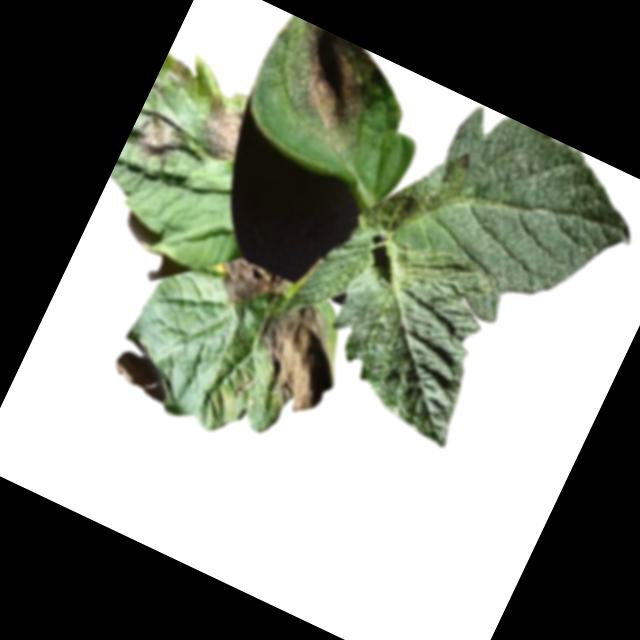Late_blight: (235, 287, 361, 421), (271, 23, 389, 143), (206, 248, 289, 323), (106, 331, 184, 403), (188, 94, 254, 167), (127, 105, 192, 170), (168, 60, 194, 86)
